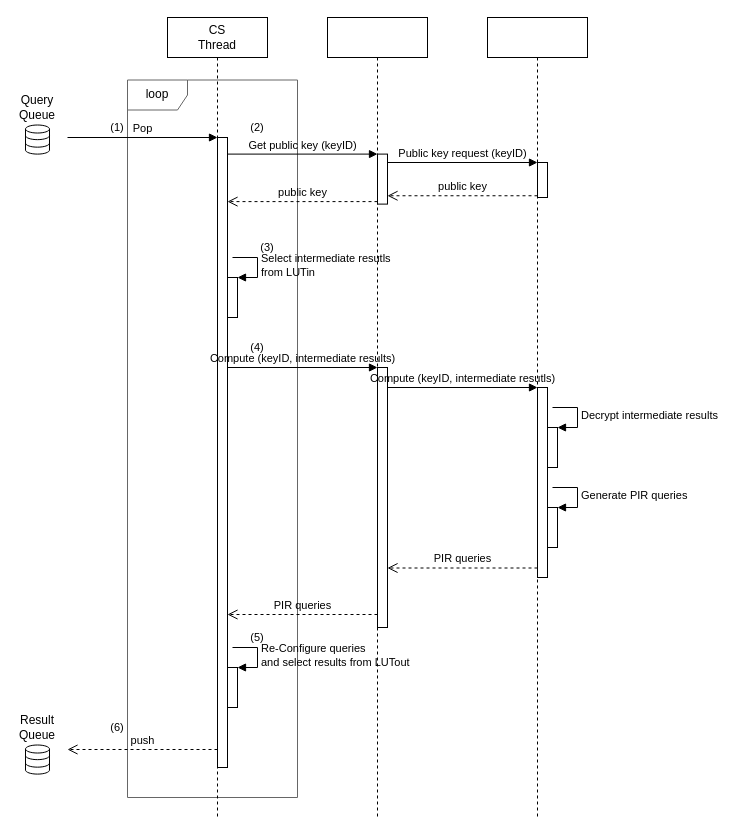
This 735x835 diagram has some shape labels left out. The centre of each missing label's shape, as x and y in pixels:
CS Client: the point at 377,417
Dec Server: the point at 537,417
